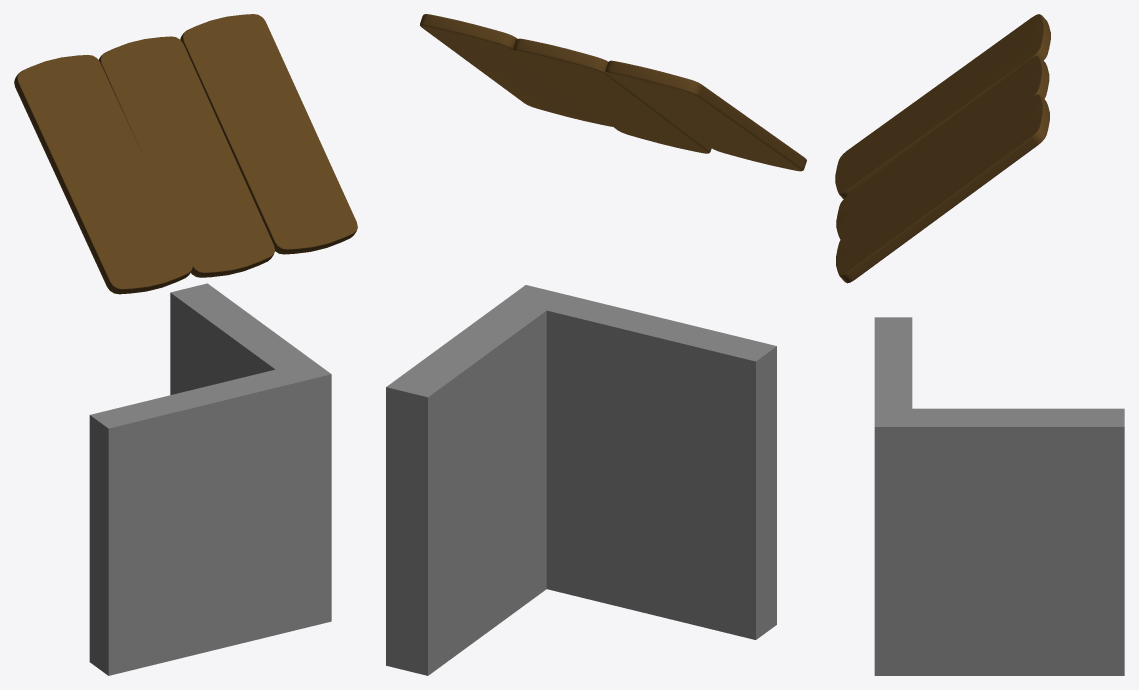
Rendered from Roof_T.fbx.
3 renders of one model, left to right at view 1: azimuth 30°, elevation 25°; view 2: azimuth 150°, elevation 25°; view 3: azimuth 270°, elevation 25°, orthographic. The views are drawn at different scales.
Visible parts, largest first — view 1: Shop, RoofPlank, RoofPlank2, RoofPlank1; view 2: Shop, RoofPlank, RoofPlank1, RoofPlank2; view 3: Shop, RoofPlank2, RoofPlank, RoofPlank1.
Part boxes in pixels (left/top/right/bottom): Shop: left=89, top=283, right=331, bottom=675; RoofPlank: left=14, top=55, right=192, bottom=294; RoofPlank2: left=180, top=14, right=357, bottom=254; RoofPlank1: left=98, top=36, right=274, bottom=277; Shop: left=386, top=285, right=776, bottom=675; RoofPlank: left=605, top=60, right=806, bottom=171; RoofPlank1: left=513, top=38, right=711, bottom=153; RoofPlank2: left=420, top=14, right=612, bottom=126; Shop: left=874, top=317, right=1124, bottom=675; RoofPlank2: left=836, top=94, right=1049, bottom=283; RoofPlank: left=835, top=14, right=1050, bottom=198; RoofPlank1: left=836, top=55, right=1049, bottom=239.
Bounding box in the file's own units: 0.9955 × 2.11 × 0.9996.
